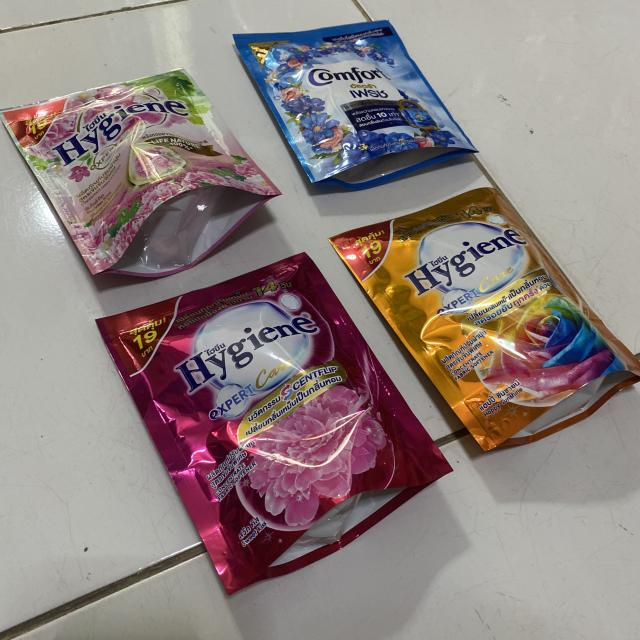plastik: (96, 252, 451, 594), (330, 188, 640, 450), (0, 69, 280, 276), (234, 20, 476, 190)
